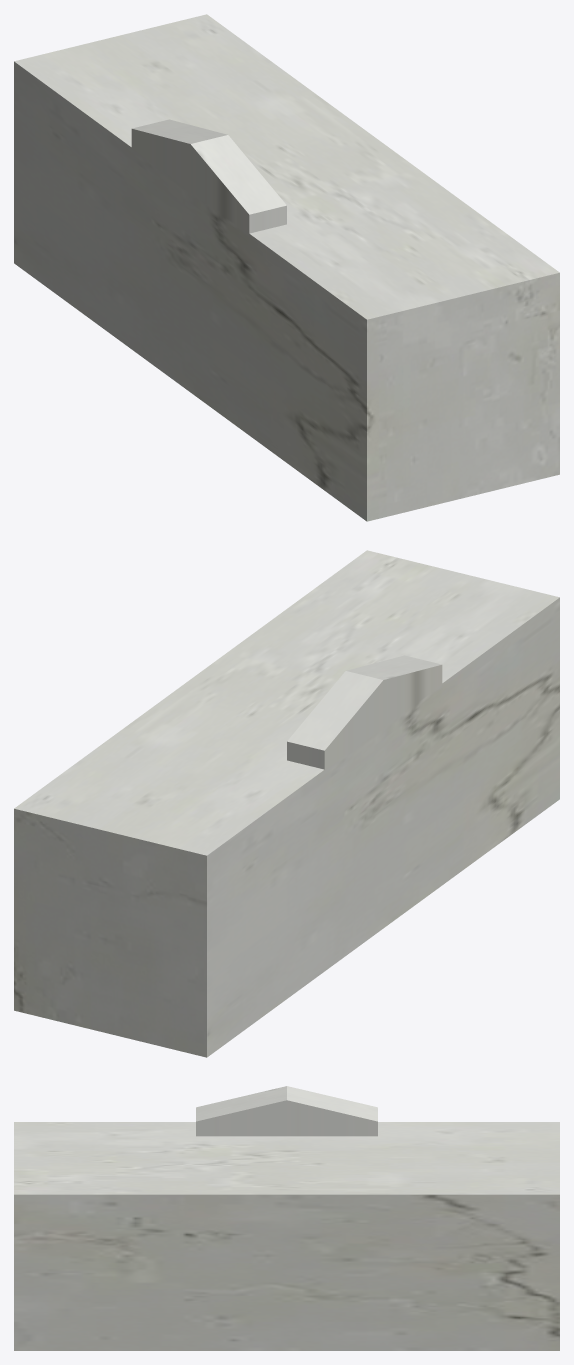
Rendered from MUNTREF.gltf.
3 views of the same model, one above another, from view 1: azimuth 30°, elevation 25°; view 2: azimuth 150°, elevation 25°; view 3: azimuth 270°, elevation 25° (orthographic). The views are drawn at different scales.
Visible parts, largest first — view 1: MUNTREF; view 2: MUNTREF; view 3: MUNTREF.
Part boxes in pixels (x1,y1,x2,y2): MUNTREF: (14, 14, 559, 521); MUNTREF: (14, 550, 559, 1057); MUNTREF: (14, 1086, 559, 1350).
Bounding box in the file's own units: 0.4938 × 0.6075 × 1.56.
Materials: 1 (1 with a texture image).
